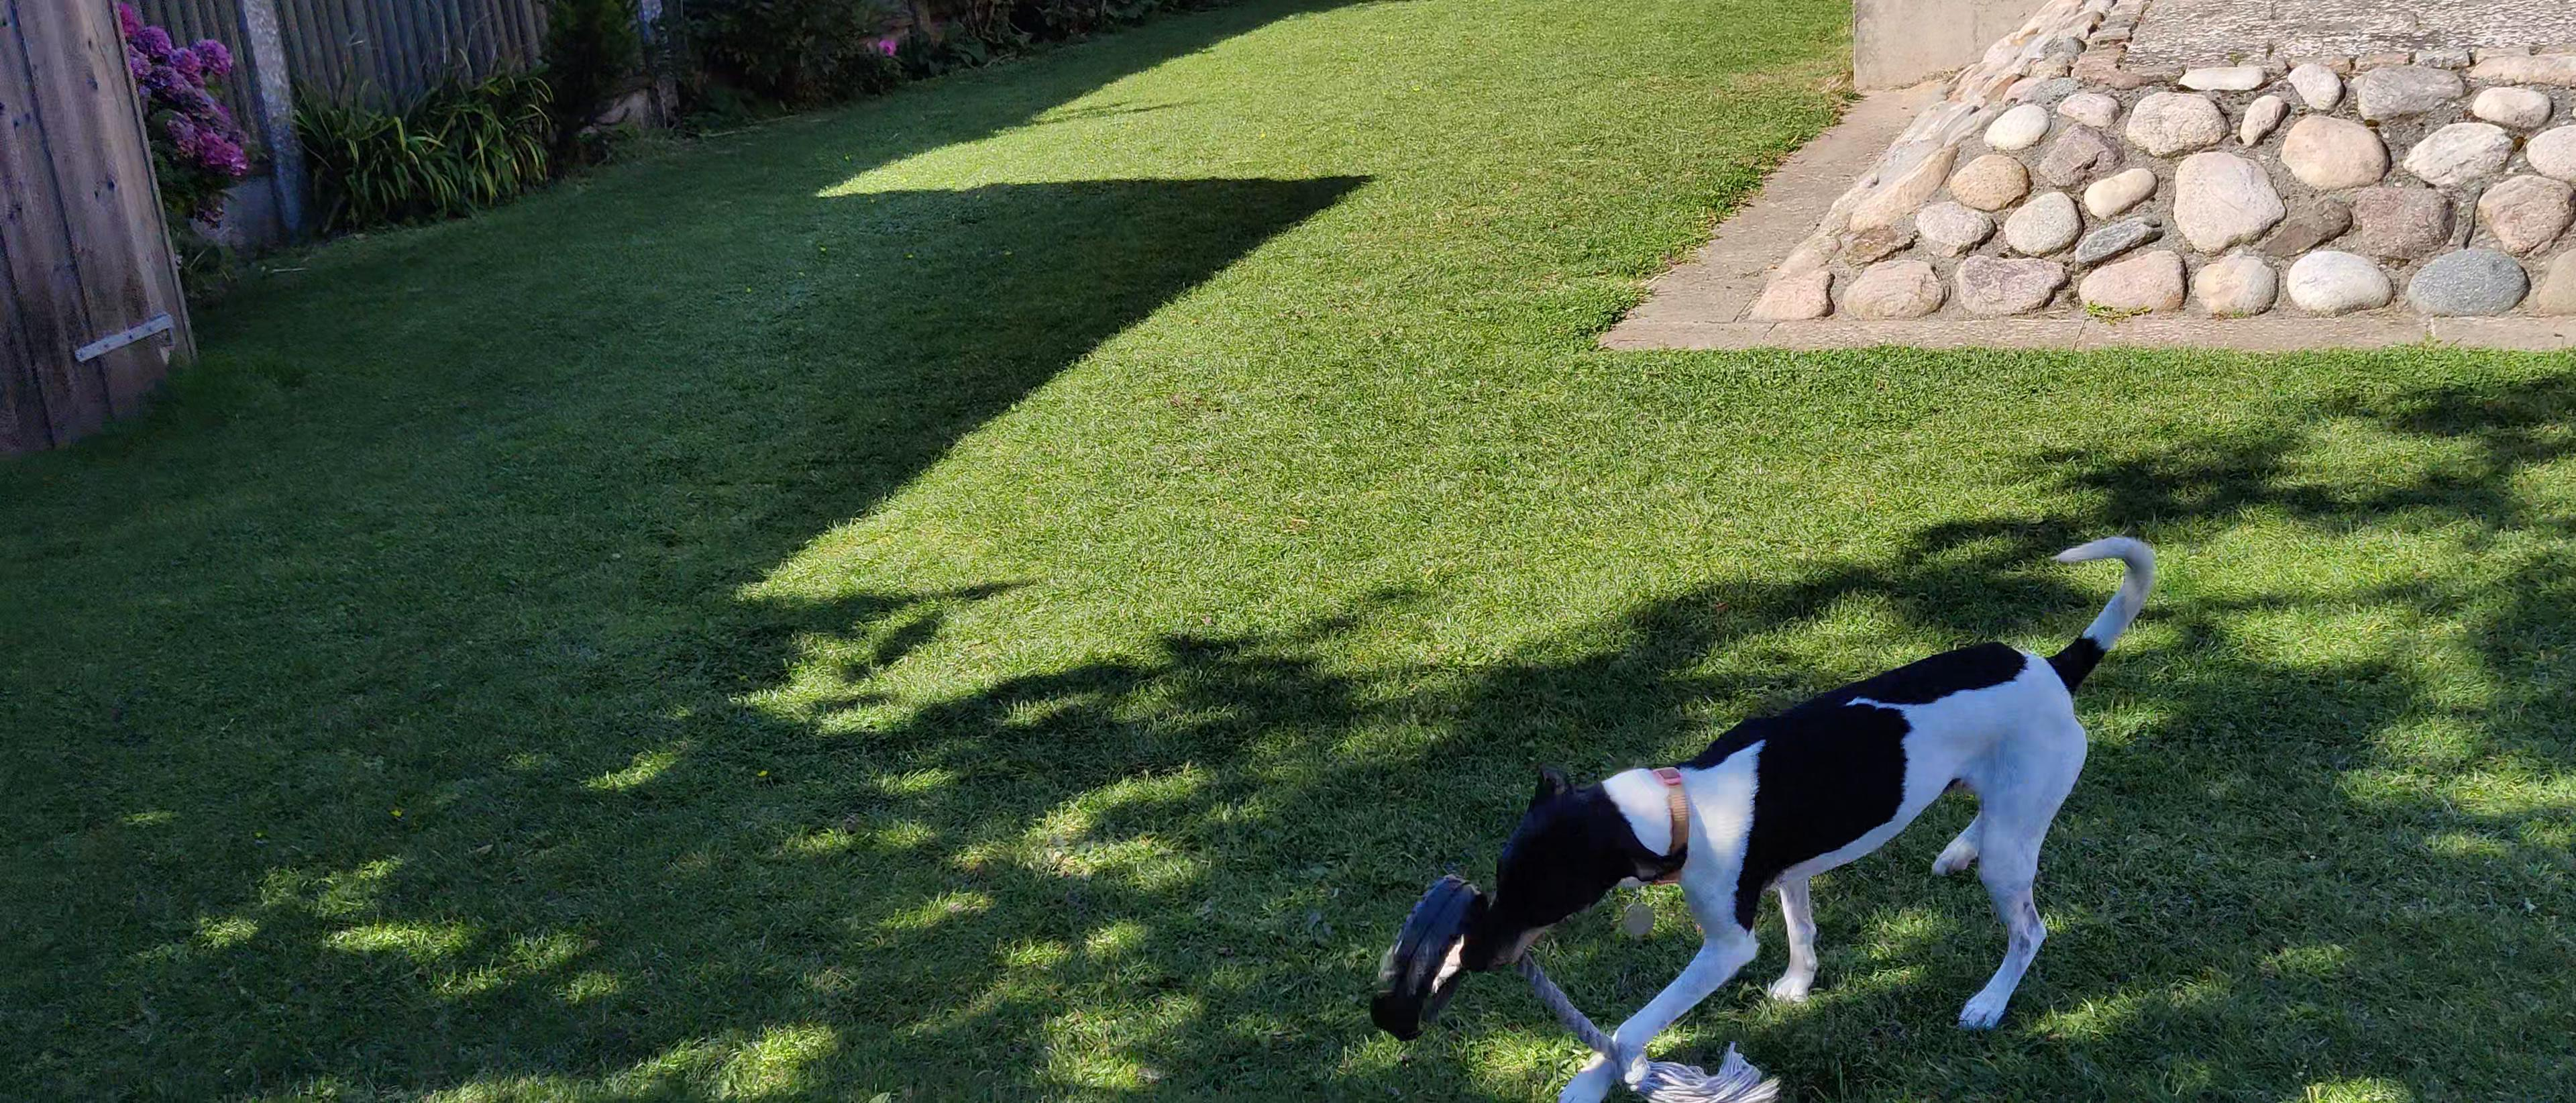Dog: (1454, 524, 2170, 1103)
